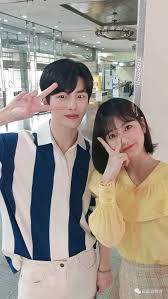people: (2, 61, 94, 299), (93, 99, 168, 299)
